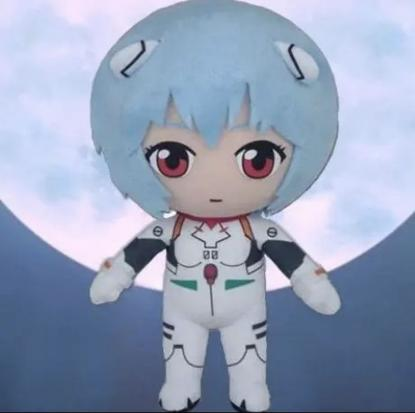rei-plush: (90, 0, 339, 411)
